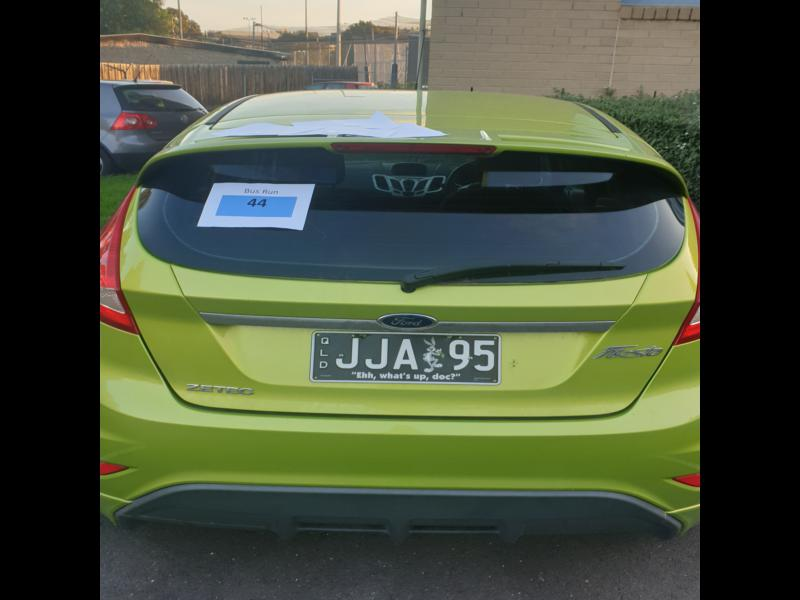BusRun: (214, 195, 298, 219)
PlateNo: (311, 331, 500, 385)
